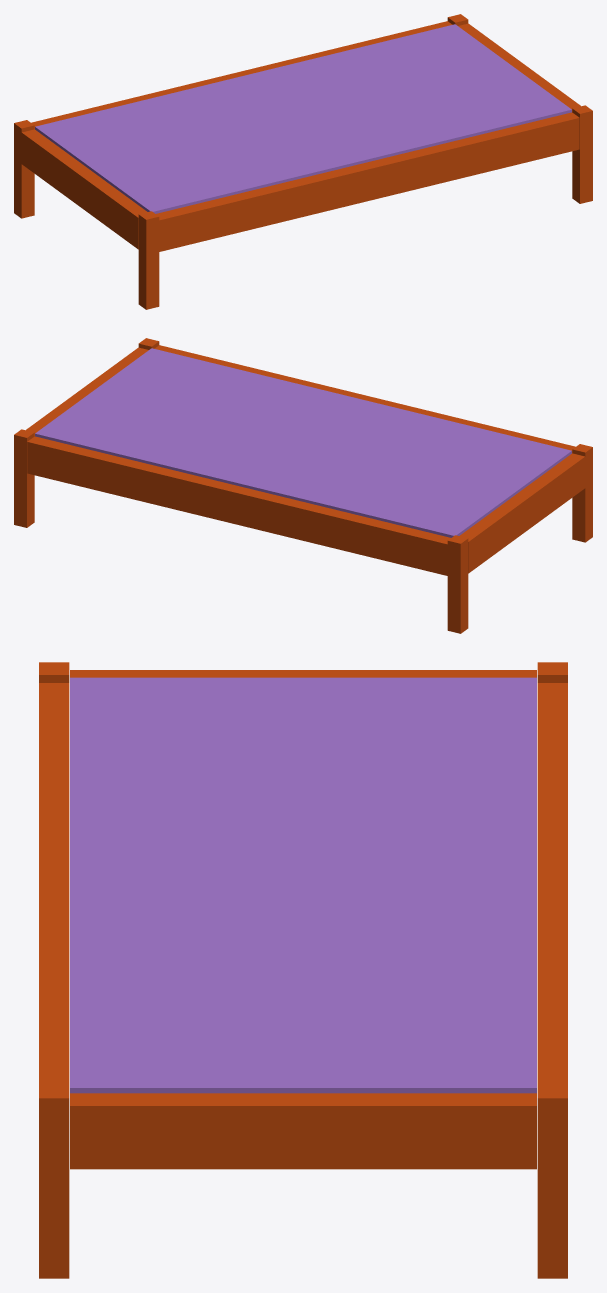
Rendered from bed.obj.
3 views of the same model, one above another, from view 1: azimuth 30°, elevation 25°; view 2: azimuth 150°, elevation 25°; view 3: azimuth 270°, elevation 25° (orthographic). The views are drawn at different scales.
Visible parts, largest first — view 1: Cube.007_Cube.008; view 2: Cube.007_Cube.008; view 3: Cube.007_Cube.008.
Boxes of the visible parts, left/top/right/bottom form: Cube.007_Cube.008: left=14, top=14, right=592, bottom=309; Cube.007_Cube.008: left=14, top=338, right=592, bottom=633; Cube.007_Cube.008: left=39, top=662, right=567, bottom=1278.
Size of the model in its own units: 11.3 by 2.18 by 5.79.
